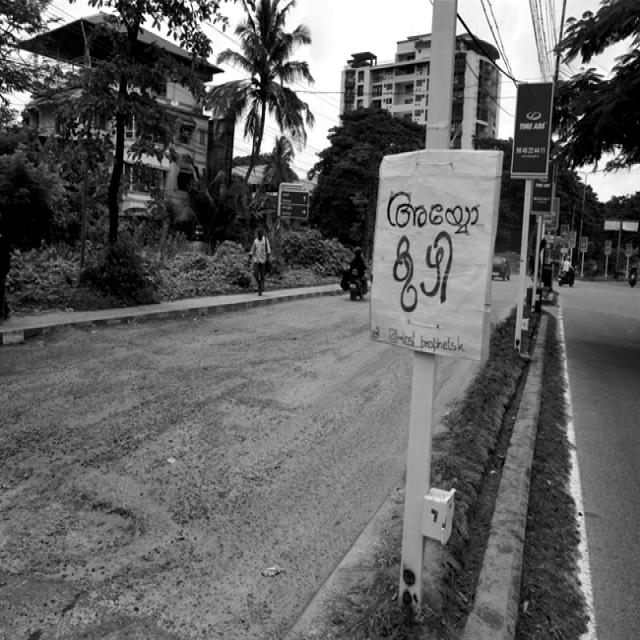cleat: (98, 279, 640, 640)
